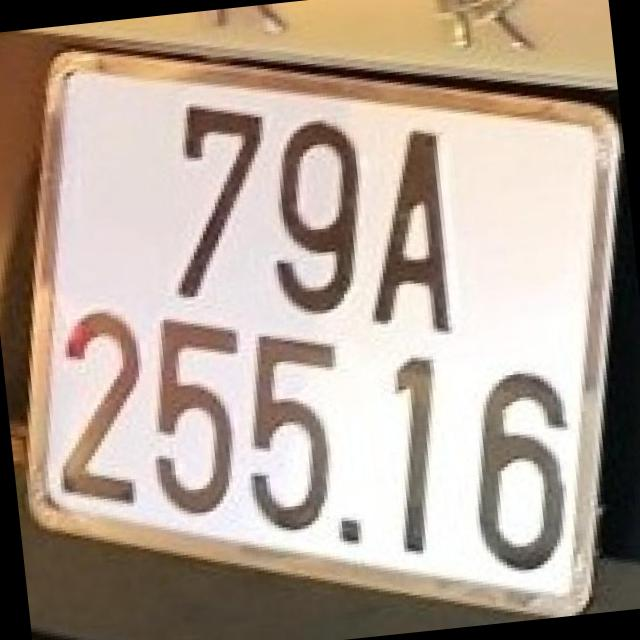1: (356, 330, 468, 558)
2: (25, 284, 164, 514)
5: (216, 311, 364, 538), (124, 294, 258, 522)
6: (444, 348, 594, 582)
7: (136, 82, 287, 306)
9: (246, 102, 387, 329)
A: (336, 106, 478, 346)
